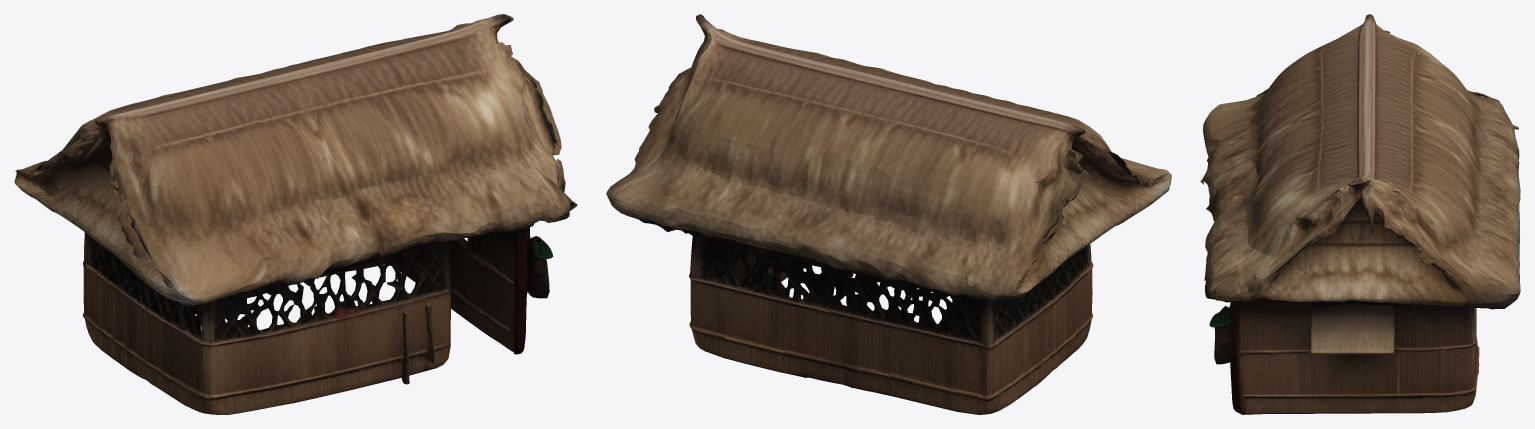
The model's file is caithonvida.glb.
3 renders of one model, left to right at view 1: azimuth 30°, elevation 25°; view 2: azimuth 150°, elevation 25°; view 3: azimuth 270°, elevation 25°, orthographic. The views are drawn at different scales.
Parts seen in each view (by area): view 1: world; view 2: world; view 3: world.
Part boxes in pixels (box(x1,y1,x2,y2)): world: box(14, 14, 577, 414); world: box(606, 14, 1171, 414); world: box(1200, 14, 1520, 414).
Bounding box in the file's own units: 0.9966 × 0.6312 × 0.7057.
Materials: 1 (1 with a texture image).
